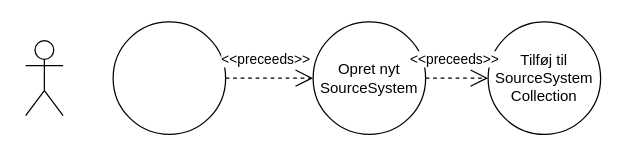
Some shapes in this 623 by 164 pixel diagram are drawn without their labels. The shapes that lost their labels are listed below. From the top down, each one's centre as x and y in pixels, then its label:
point 43,77: Bruger
point 169,77: SourceSystem Collection
